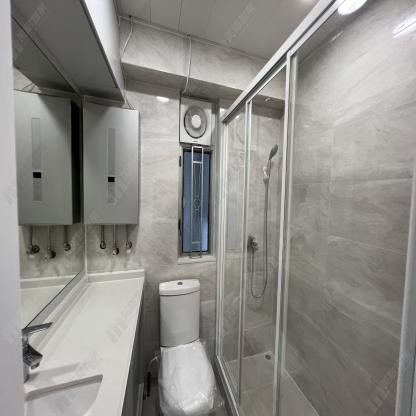Exhaust Fan: (179, 97, 212, 146)
Toilet: (158, 280, 215, 415)
Toilet Sink: (21, 332, 133, 416)
Water Cubicle: (213, 0, 416, 416)
Water Heater: (83, 100, 141, 227)
